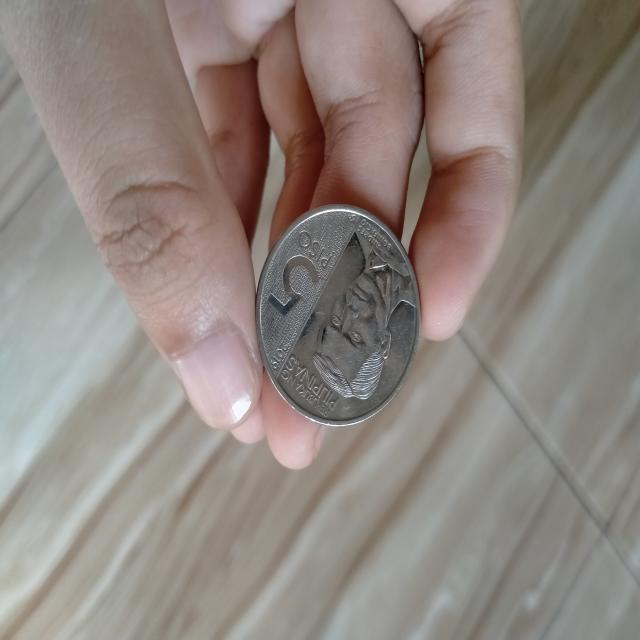5_New_Front: (258, 217, 342, 322)
